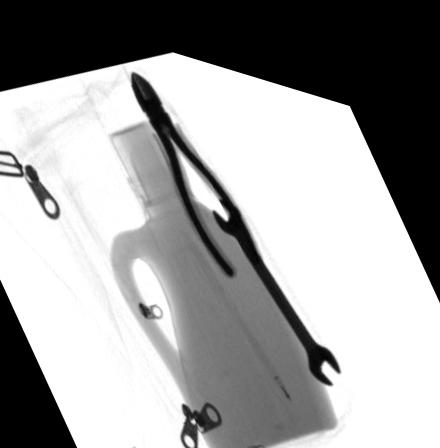Pliers: (131, 61, 260, 264)
Wrench: (210, 186, 340, 366)
